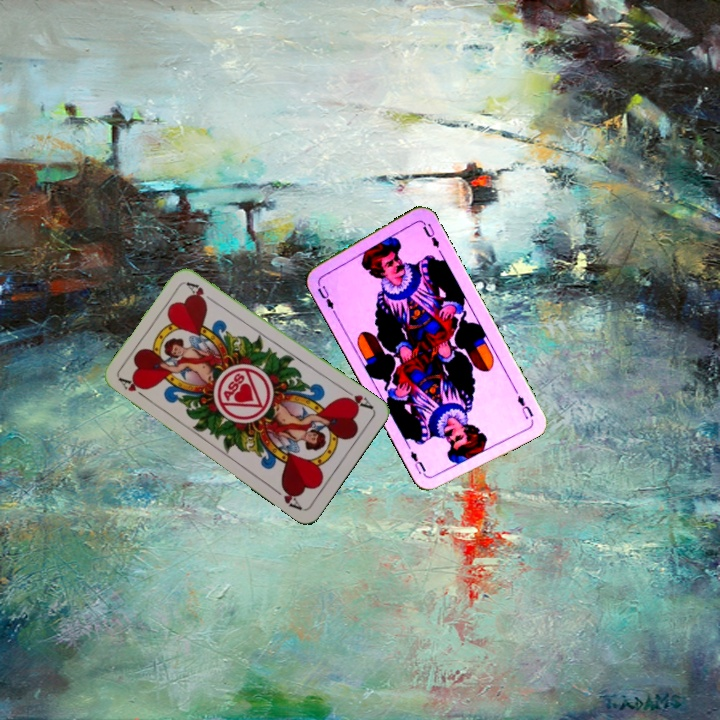EU: (313, 281, 338, 315), (513, 391, 536, 422)
HA: (338, 384, 376, 412), (115, 374, 151, 403)
